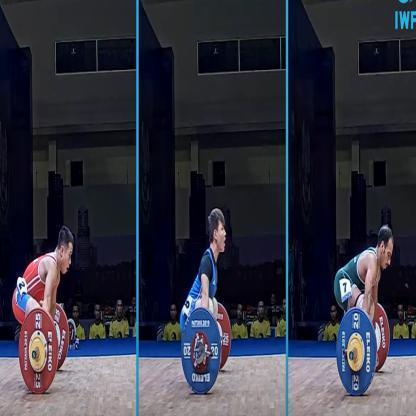barbell: (336, 305, 391, 398), (180, 300, 232, 394), (18, 303, 69, 394)
